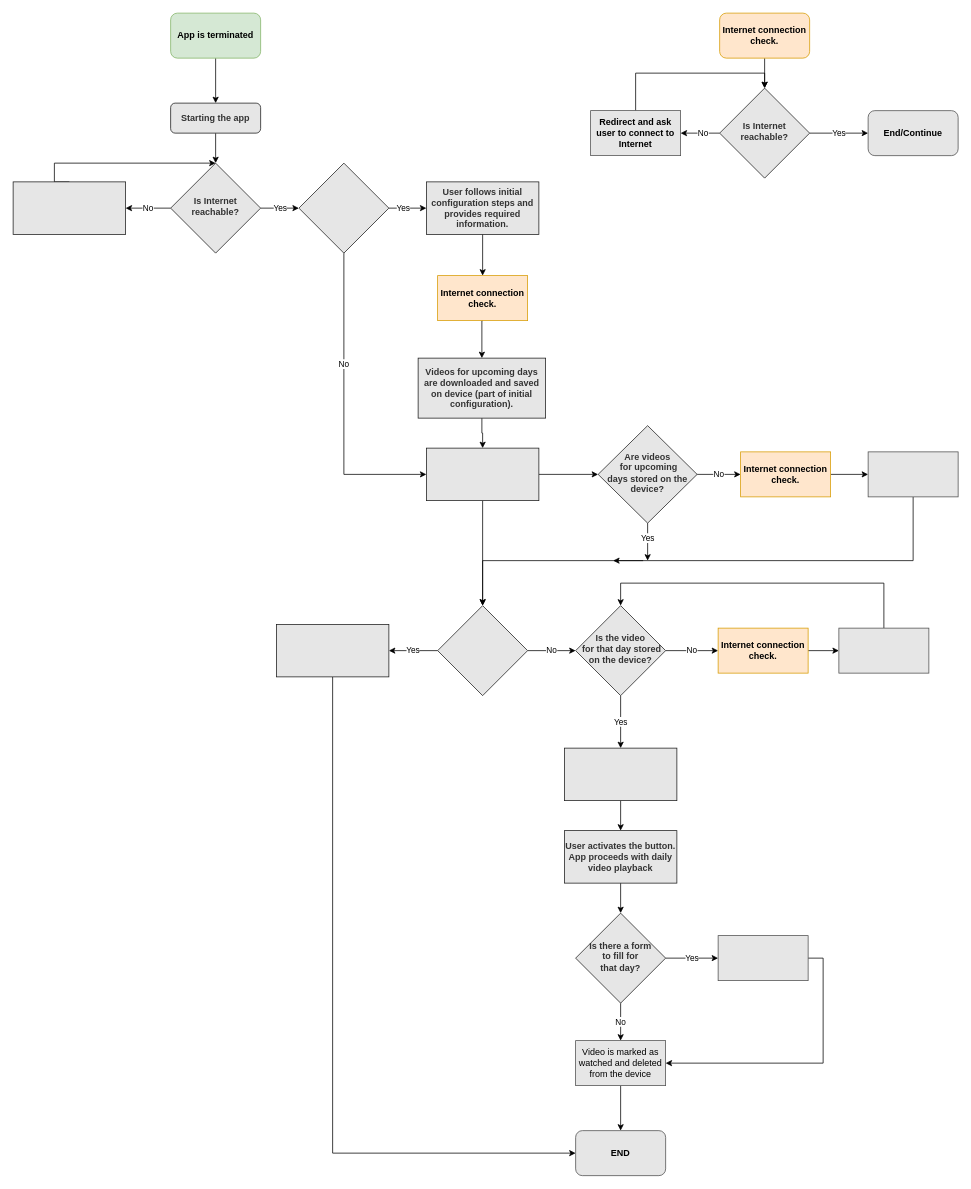
Some shapes in this 971 by 1189 pixel diagram are drawn without their labels. The centre of each missing label's shape, as x and y in pixels:
"Play daily video" button is active: point (620, 774)
"Play daily video" button is disabled: point (332, 650)
Download video for the day: point (883, 650)
Download videos for upcoming days: point (912, 474)
Has daily video already been seen?: point (482, 650)
Is it first interaction with the app?: point (343, 207)
Redirect to Main Menu.: point (482, 474)
Redirect to prepared view asking user to connect to the Internet.: point (69, 207)
User fills fields in form and submits it.: point (762, 958)
